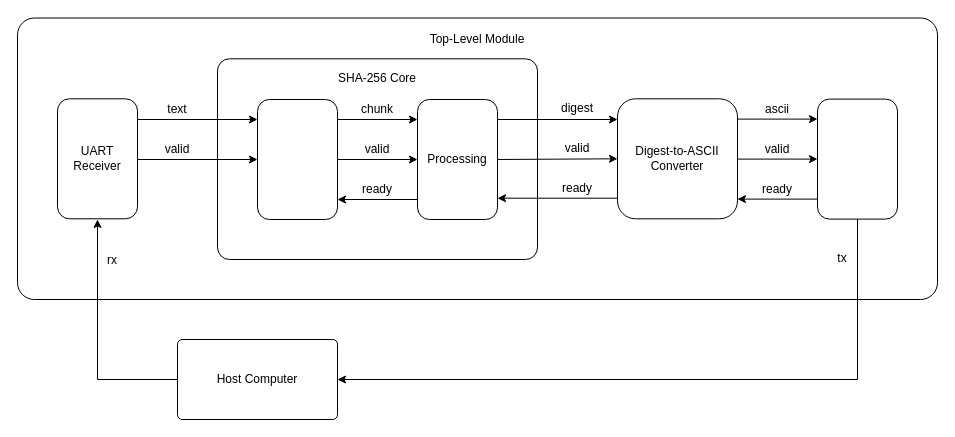
Image size: 955x437. Some labels were removed from this diagram. Here are the shapes that lost their labels. From the top down, the centre of each, then its label:
At (297,159): "Padding".
At (857,158): "UART Transmitter".
